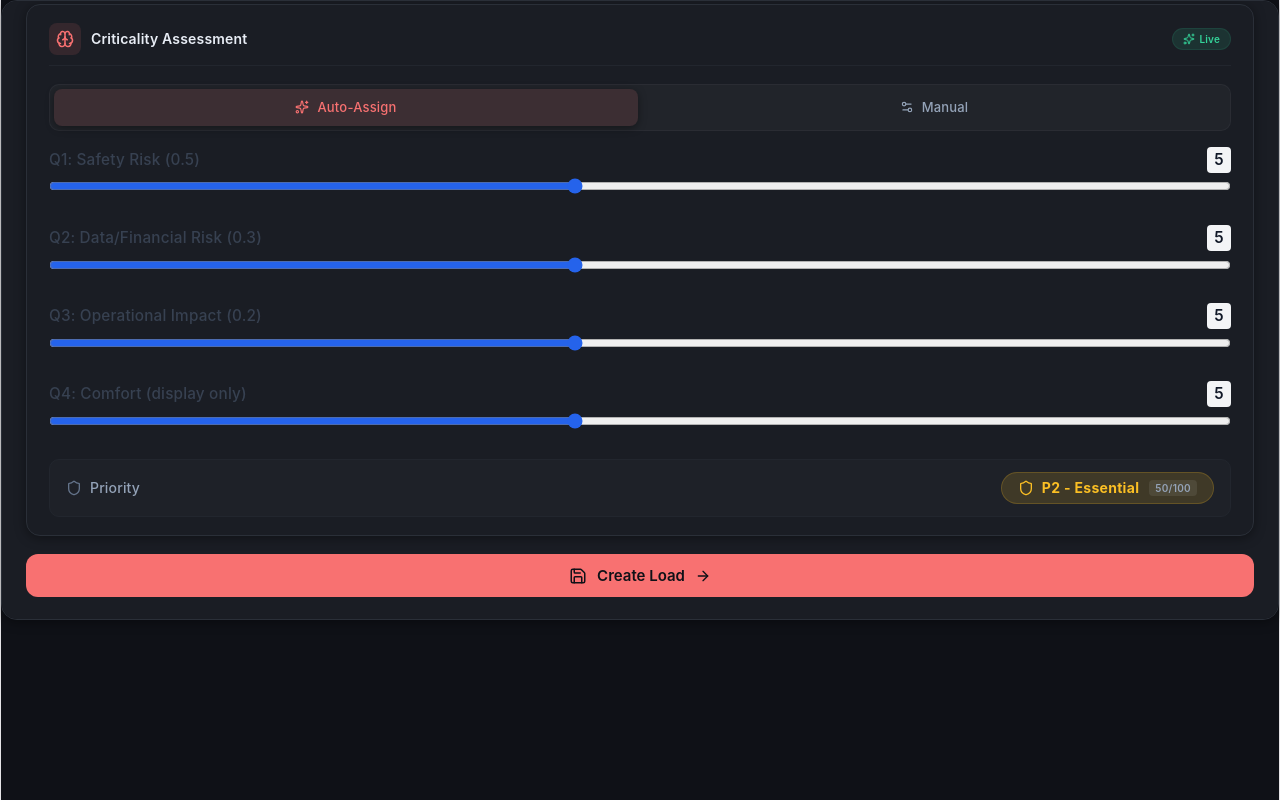
Test: LoadForm error handling › does NOT render override button on other error types
This screenshot has width=1280, height=800.
(page scrolled)
Click the button with test id "save-button" at [640, 576], box [26,554,1254,597]
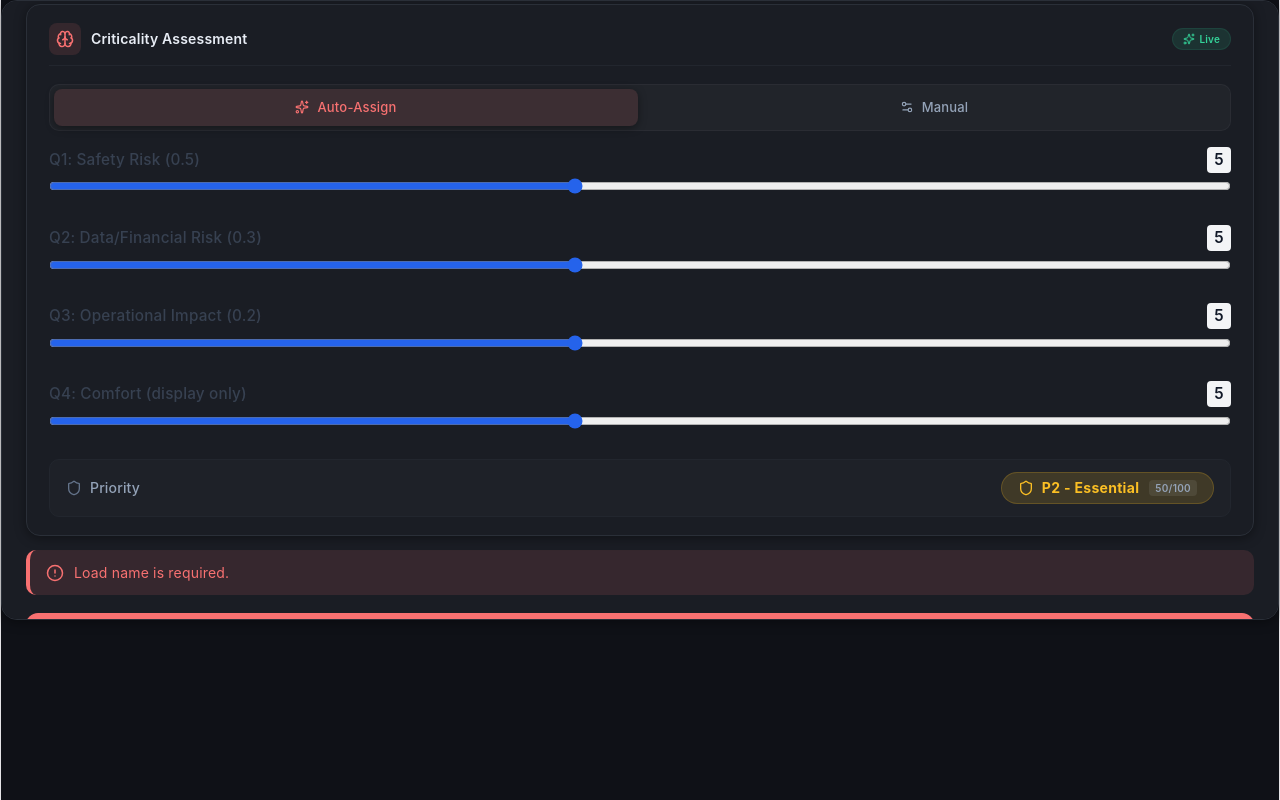
Expected: the text "Load name is required." is shown, [26,550,1254,595]
